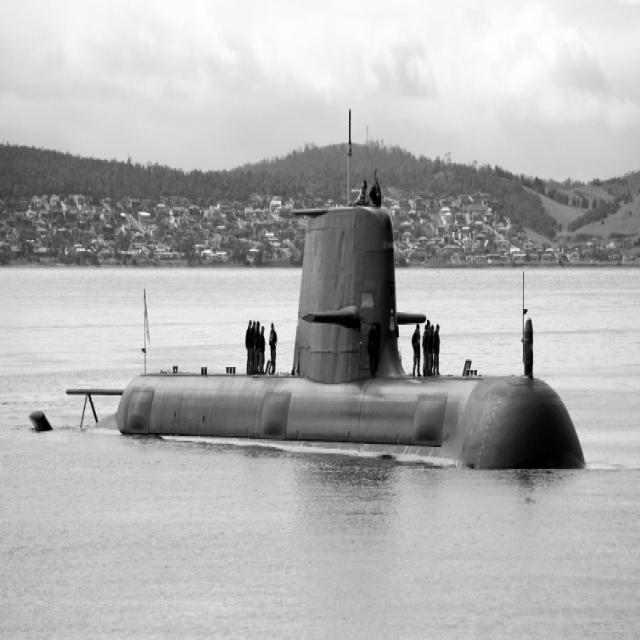submarine: (32, 193, 592, 466)
